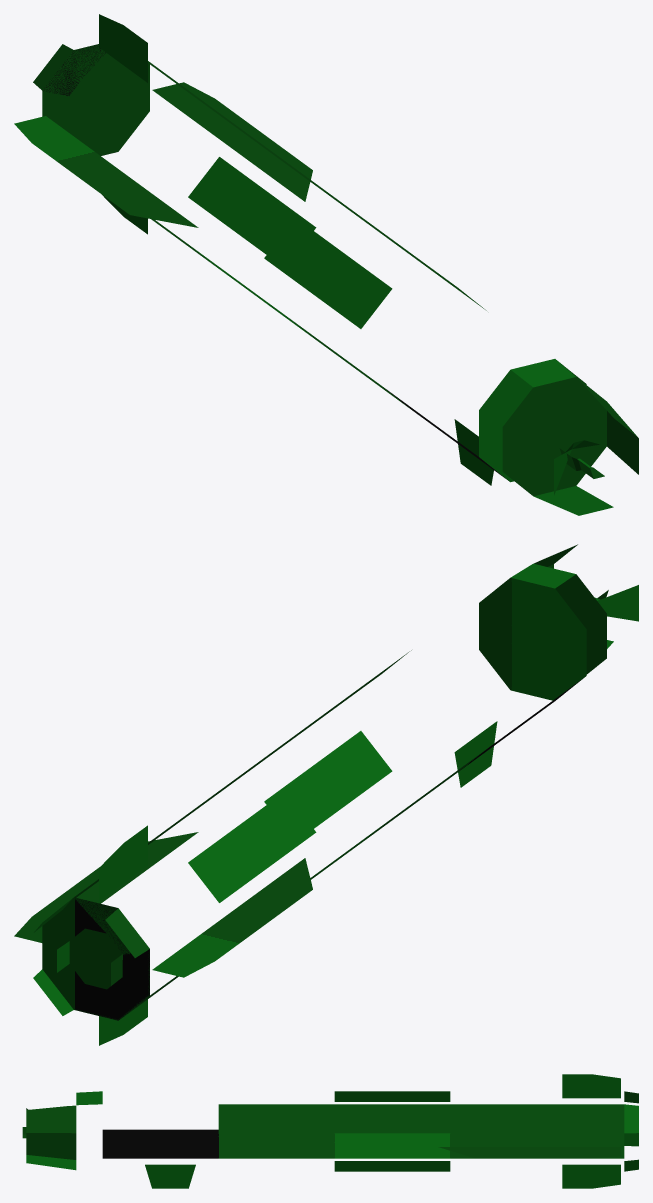
Rendered from agm114k.obj.
The picture shows the model from 3 angles, top to bottom: view 1: azimuth 30°, elevation 25°; view 2: azimuth 150°, elevation 25°; view 3: azimuth 270°, elevation 25°; orthographic projection. The views are drawn at different scales.
Visible parts, largest first — view 1: cylinder1, cylinder3, plane18, plane17, plane15, tube, plane13, cylinder31; view 2: cylinder1, tube, plane18, cylinder3, plane17, plane15, plane13, plane16, cylinder31; view 3: cylinder1, cylinder3, plane17, plane15, plane16, plane13, tube, cylinder31.
Boxes of the visible parts, x1,y1,x2,y2 form: cylinder1: [42, 44, 586, 482]; cylinder3: [502, 377, 638, 515]; plane18: [14, 116, 198, 227]; plane17: [152, 82, 312, 201]; plane15: [99, 14, 147, 82]; tube: [33, 44, 116, 155]; plane13: [454, 419, 493, 485]; cylinder31: [511, 359, 575, 387]; cylinder1: [42, 577, 586, 1020]; tube: [33, 897, 149, 1020]; plane18: [152, 858, 312, 977]; cylinder3: [534, 544, 638, 674]; plane17: [14, 832, 198, 942]; plane15: [99, 825, 147, 900]; plane13: [454, 721, 497, 787]; plane16: [99, 999, 147, 1045]; cylinder31: [511, 563, 575, 588]; cylinder1: [102, 1091, 624, 1171]; cylinder3: [26, 1105, 76, 1170]; plane17: [438, 1147, 620, 1158]; plane15: [562, 1074, 620, 1098]; plane16: [562, 1164, 620, 1188]; plane13: [145, 1164, 195, 1188]; tube: [624, 1091, 638, 1171]; cylinder31: [76, 1091, 102, 1105].
Bounding box in the file's own units: 0.283 × 0.283 × 1.4.
